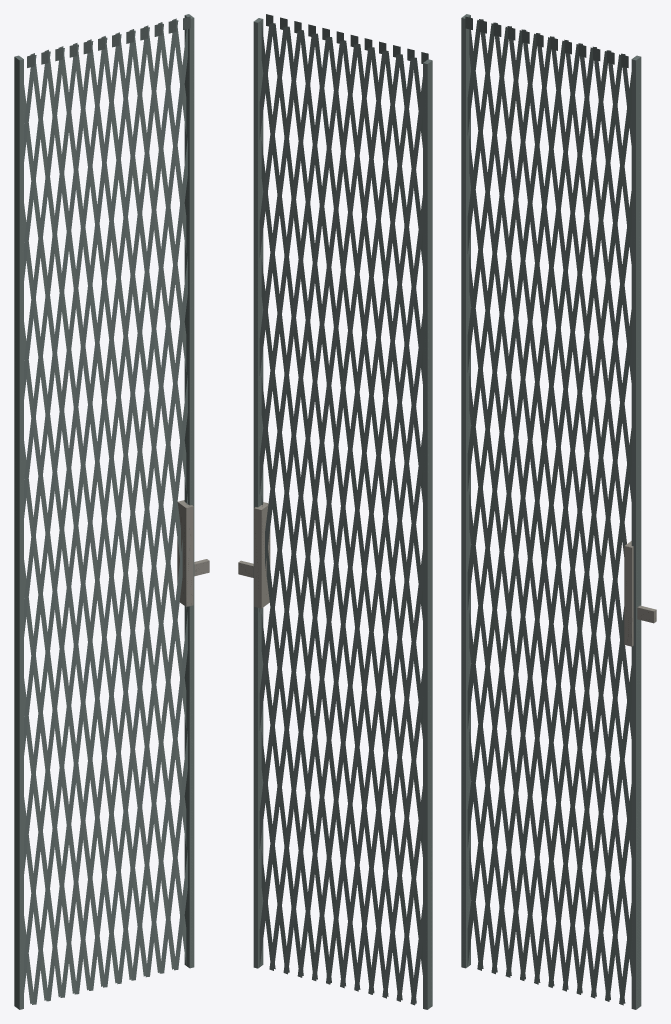
Rendered from CuaSatXep_Mo.glb.
3 views of the same model, side by side, from view 1: azimuth 30°, elevation 25°; view 2: azimuth 150°, elevation 25°; view 3: azimuth 330°, elevation 25° (orthographic).
Visible parts, largest first — view 1: CuaSatXep_Mo; view 2: CuaSatXep_Mo; view 3: CuaSatXep_Mo.
Boxes of the visible parts, x1,y1,x2,y2 form: CuaSatXep_Mo: (14,14,209,1009); CuaSatXep_Mo: (238,14,432,1009); CuaSatXep_Mo: (461,14,656,1009).
Size of the model in its own units: 0.506 by 2.41 by 0.04.
Materials: 1 (1 with a texture image).
